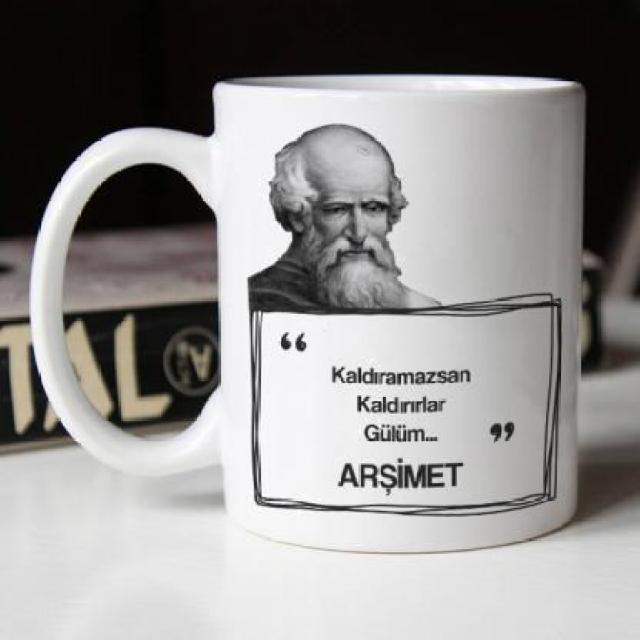taza: (27, 72, 586, 556)
